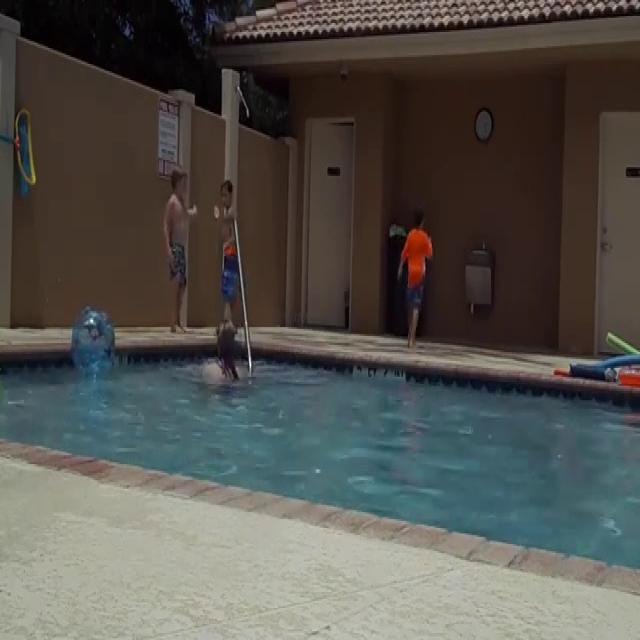adult: (202, 322, 250, 406)
child: (166, 166, 194, 335), (400, 210, 430, 347), (216, 176, 241, 324)
